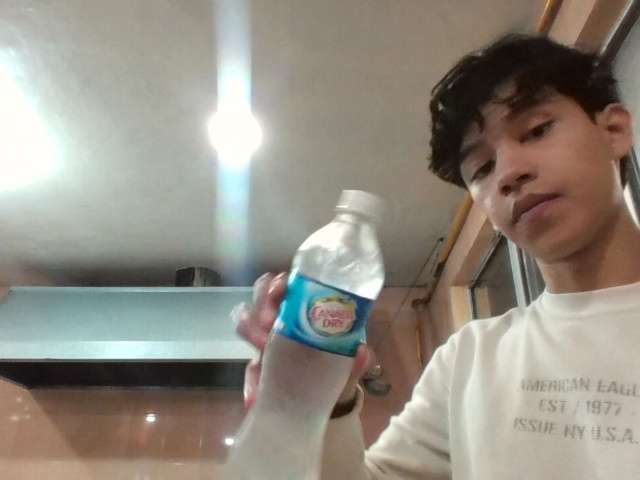botella: (242, 162, 403, 480)
